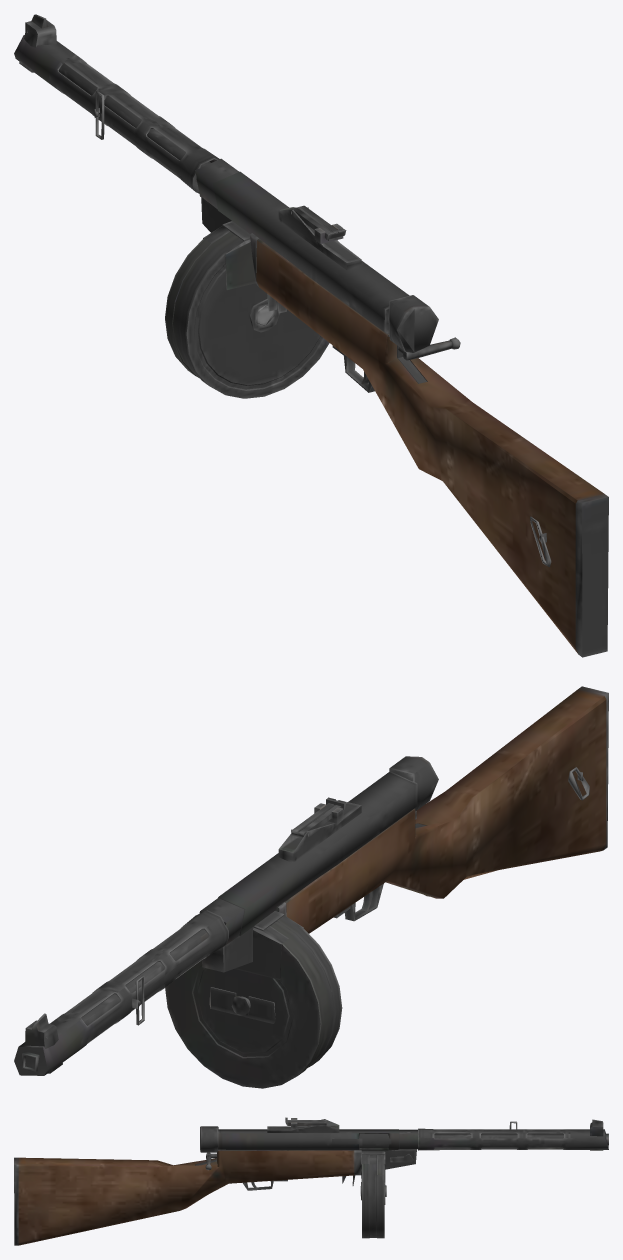
Rendered from 014_Suomi_KP_cc0_card.glb.
3 renders of one model, top to bottom at view 1: azimuth 30°, elevation 25°; view 2: azimuth 150°, elevation 25°; view 3: azimuth 270°, elevation 25°, orthographic. The views are drawn at different scales.
Visible parts, largest first — view 1: Body, Magazine; view 2: Body, Magazine; view 3: Body, Magazine, Ejector.
Part boxes in pixels (x1,y1,x2,y2): Body: [14, 14, 608, 657]; Magazine: [165, 221, 329, 398]; Body: [14, 686, 608, 1075]; Magazine: [165, 911, 342, 1088]; Body: [14, 1117, 608, 1245]; Magazine: [360, 1151, 386, 1238]; Ejector: [332, 1133, 391, 1147].
Size of the model in its own units: 0.1387 by 0.2003 by 0.8736.
1 material, 1 textured.
